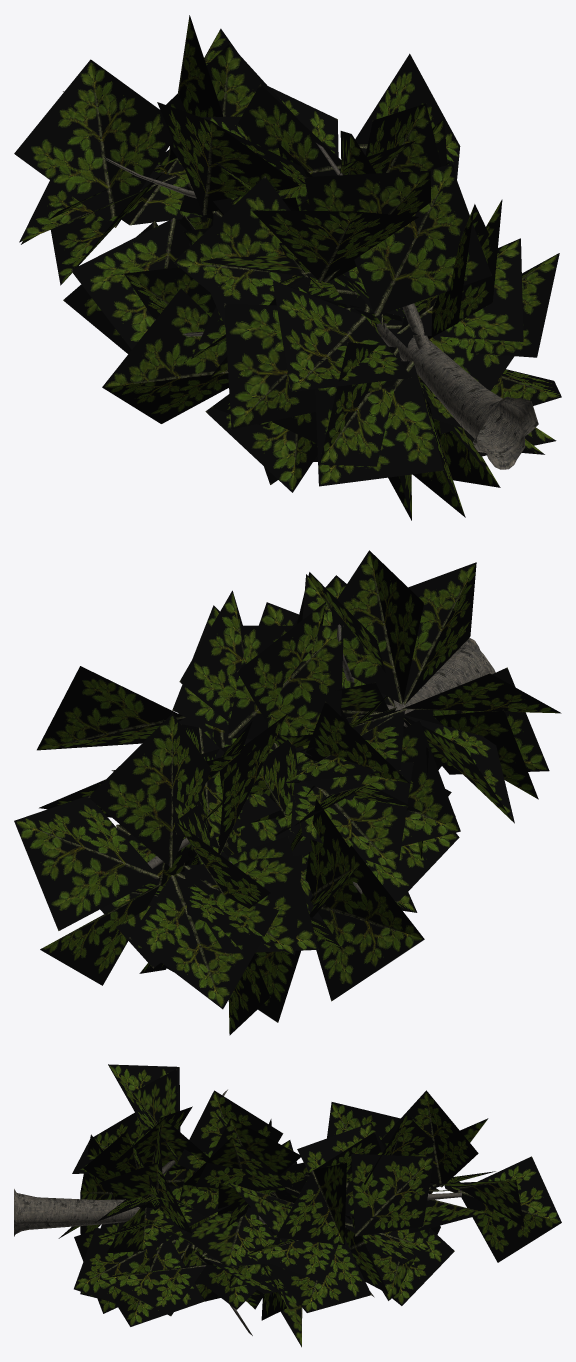
Rendered from tree_5.obj.
The picture shows the model from 3 angles, top to bottom: view 1: azimuth 30°, elevation 25°; view 2: azimuth 150°, elevation 25°; view 3: azimuth 270°, elevation 25°; orthographic projection. The views are drawn at different scales.
Parts seen in each view (by area): view 1: tree_5_leaves, tree_5; view 2: tree_5_leaves, tree_5; view 3: tree_5_leaves, tree_5.
Part boxes in pixels (left/top/right/bottom): tree_5_leaves: left=14, top=15, right=561, bottom=520; tree_5: left=103, top=143, right=538, bottom=469; tree_5_leaves: left=14, top=550, right=561, bottom=1035; tree_5: left=111, top=624, right=495, bottom=894; tree_5_leaves: left=58, top=1064, right=561, bottom=1347; tree_5: left=14, top=1089, right=461, bottom=1335.
Size of the model in its own units: 3.66 by 3.64 by 6.91.
